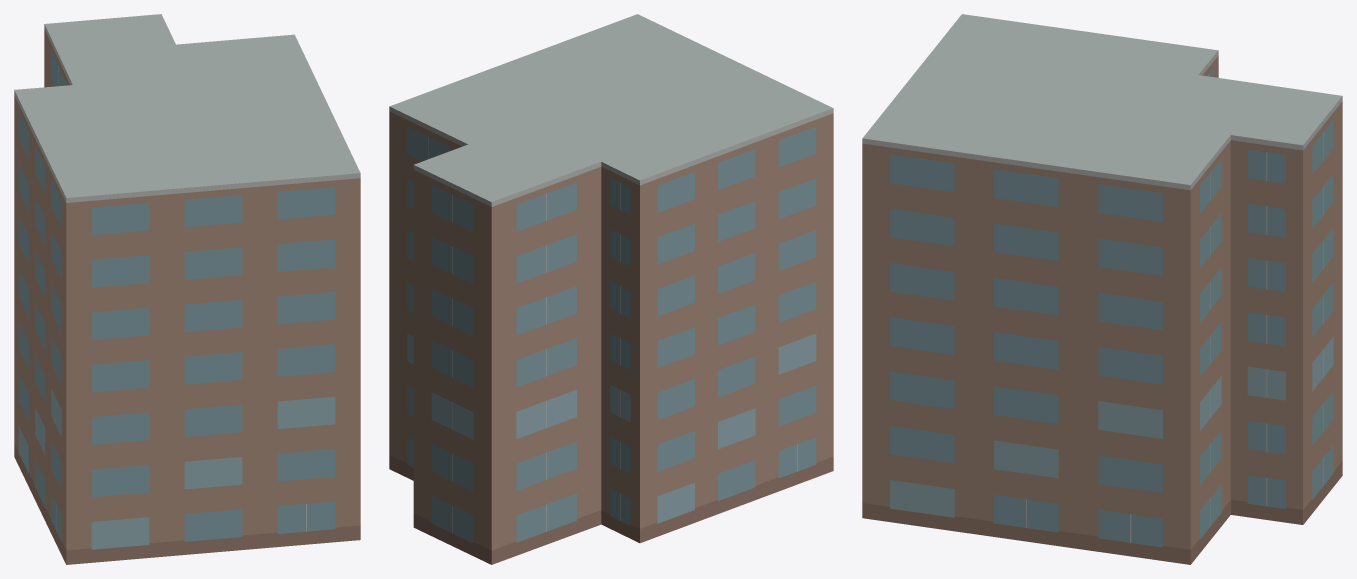
Rendered from survey-upis-32977751.glb.
3 renders of one model, left to right at view 1: azimuth 30°, elevation 25°; view 2: azimuth 150°, elevation 25°; view 3: azimuth 270°, elevation 25°, orthographic. The views are drawn at different scales.
Parts seen in each view (by area): view 1: survey-upis-32977751.tmp; view 2: survey-upis-32977751.tmp; view 3: survey-upis-32977751.tmp.
Part boxes in pixels (x1,y1,x2,y2): survey-upis-32977751.tmp: [14, 14, 360, 564]; survey-upis-32977751.tmp: [389, 14, 833, 564]; survey-upis-32977751.tmp: [862, 14, 1342, 564].
Size of the model in its own units: 17.41 by 18 by 20.64.
